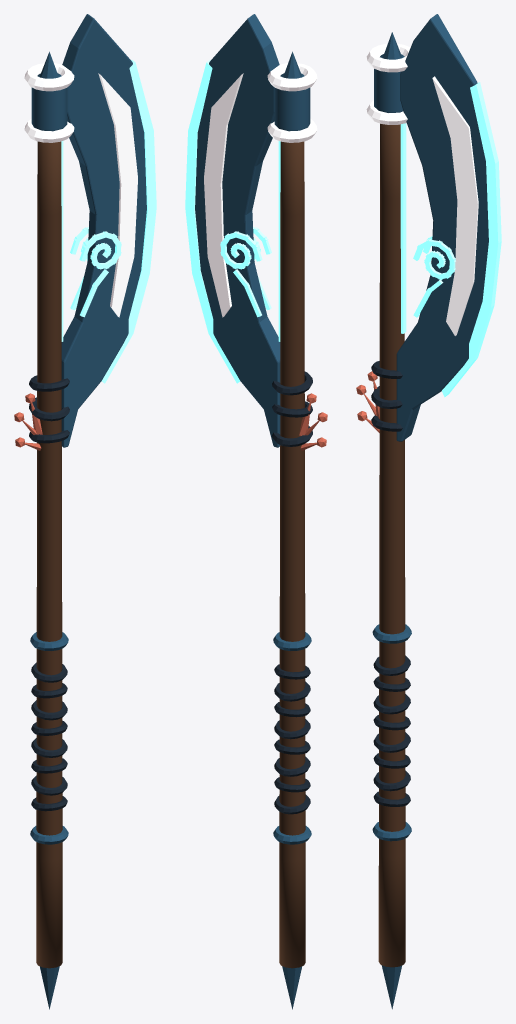
The model's file is tidecaller.glb.
The picture shows the model from 3 angles, left to right: view 1: azimuth 30°, elevation 25°; view 2: azimuth 150°, elevation 25°; view 3: azimuth 330°, elevation 25°; orthographic projection. The views are drawn at different scales.
Visible parts, largest first — view 1: AX7_Haft, AX7_Blade, AX7_Nacre, AX7_Edge, AX7_Socket, AX7_Socket_Top, AX7_Socket_Bot, AX7_Seam, AX7_Ferrule, AX7_Band1, AX7_Band0, AX7_TangWrap_1 (+6 smaller); view 2: AX7_Haft, AX7_Blade, AX7_Nacre, AX7_Edge, AX7_Socket, AX7_Socket_Top, AX7_Socket_Bot, AX7_Seam, AX7_Ferrule, AX7_TangWrap_2, AX7_Band1, AX7_Band0 (+6 smaller); view 3: AX7_Blade, AX7_Haft, AX7_Nacre, AX7_Edge, AX7_Seam, AX7_Socket, AX7_Socket_Top, AX7_Socket_Bot, AX7_Ferrule, AX7_Band1, AX7_Band0, AX7_Grip_3 (+3 smaller).
Boxes of the visible parts, <box> form: AX7_Haft: <box>36,141,62,968</box>; AX7_Blade: <box>61,14,146,447</box>; AX7_Nacre: <box>98,73,137,317</box>; AX7_Edge: <box>102,60,156,383</box>; AX7_Socket: <box>31,73,67,131</box>; AX7_Socket_Top: <box>24,63,74,91</box>; AX7_Socket_Bot: <box>24,118,74,142</box>; AX7_Seam: <box>61,141,63,341</box>; AX7_Ferrule: <box>39,966,59,1009</box>; AX7_Band1: <box>30,632,68,650</box>; AX7_Band0: <box>30,826,68,844</box>; AX7_TangWrap_1: <box>29,397,69,421</box>; AX7_Haft: <box>279,141,305,968</box>; AX7_Blade: <box>195,14,280,447</box>; AX7_Nacre: <box>204,73,243,317</box>; AX7_Edge: <box>185,60,239,383</box>; AX7_Socket: <box>274,73,310,131</box>; AX7_Socket_Top: <box>267,63,317,91</box>; AX7_Socket_Bot: <box>267,118,317,142</box>; AX7_Seam: <box>278,141,280,341</box>; AX7_Ferrule: <box>282,966,302,1009</box>; AX7_TangWrap_2: <box>272,371,312,395</box>; AX7_Band1: <box>273,632,311,650</box>; AX7_Band0: <box>273,826,311,844</box>; AX7_Blade: <box>396,14,488,441</box>; AX7_Haft: <box>378,123,405,967</box>; AX7_Nacre: <box>432,76,478,335</box>; AX7_Edge: <box>442,82,501,397</box>; AX7_Seam: <box>400,123,406,333</box>; AX7_Socket: <box>374,54,404,112</box>; AX7_Socket_Top: <box>366,43,410,72</box>; AX7_Socket_Bot: <box>366,100,407,124</box>; AX7_Ferrule: <box>381,965,402,1009</box>; AX7_Band1: <box>372,624,411,643</box>; AX7_Band0: <box>372,822,411,841</box>; AX7_Grip_3: <box>373,732,410,752</box>.
Size of the model in its own units: 0.3413 by 2.29 by 0.1064.
